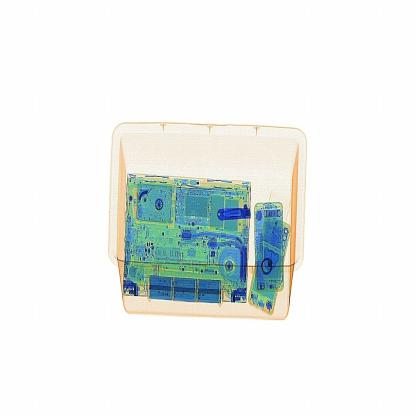knife: (210, 201, 258, 230)
